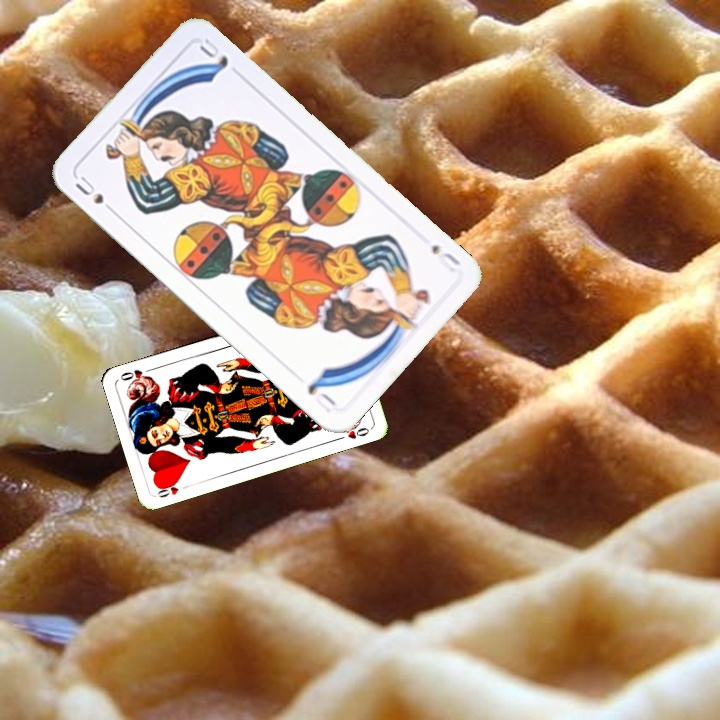HO: (153, 477, 192, 500)
SU: (71, 171, 120, 218), (427, 240, 463, 275)
